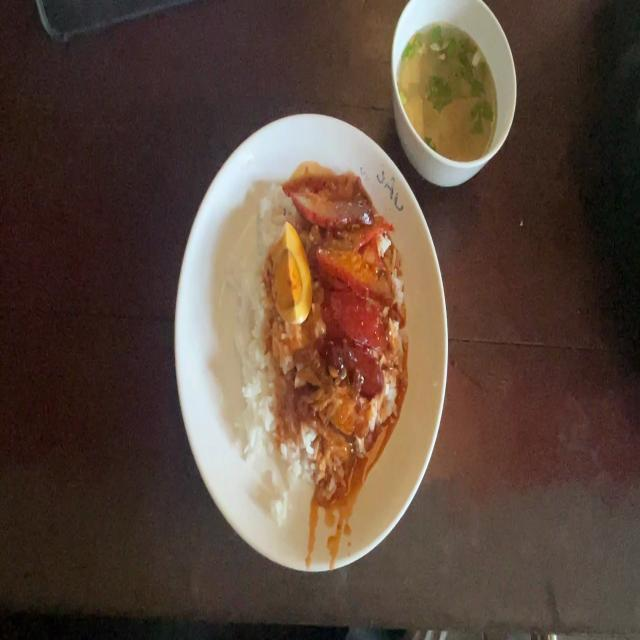01boiled_egg: (270, 224, 310, 326)
01chainese_sausage: (320, 285, 386, 386)
01crispy_pork: (303, 380, 361, 458)
01red_pork: (308, 179, 400, 287)
01red_pork_and_crispy_pork: (226, 184, 403, 498)
01rice: (232, 214, 268, 430), (256, 332, 302, 495), (256, 187, 291, 228)
